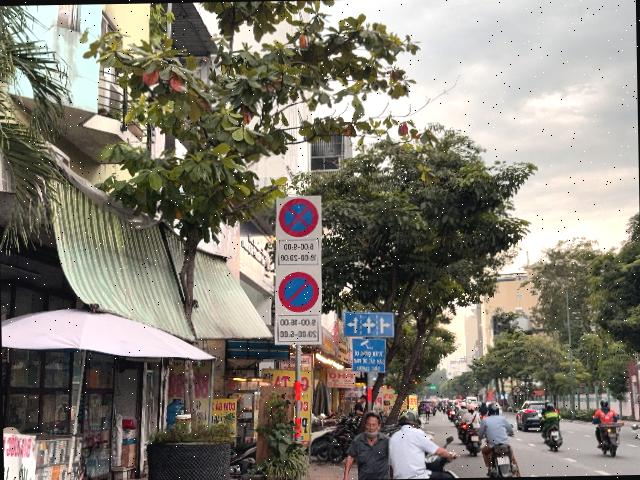cam-do-xe: (278, 271, 320, 313)
cam-dung-va-do-xe: (279, 197, 319, 237)
